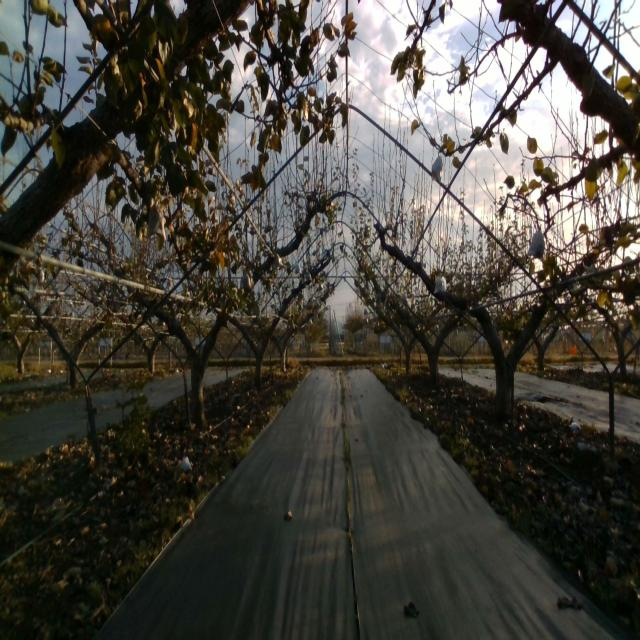pearbags: (146, 200, 166, 241), (528, 225, 546, 259), (431, 150, 443, 183), (434, 272, 448, 294), (242, 267, 253, 295)
